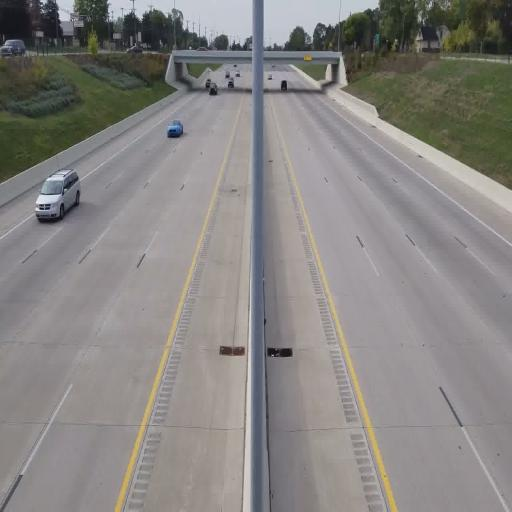Car: (34, 166, 81, 222), (1, 38, 26, 56), (166, 119, 184, 137)
